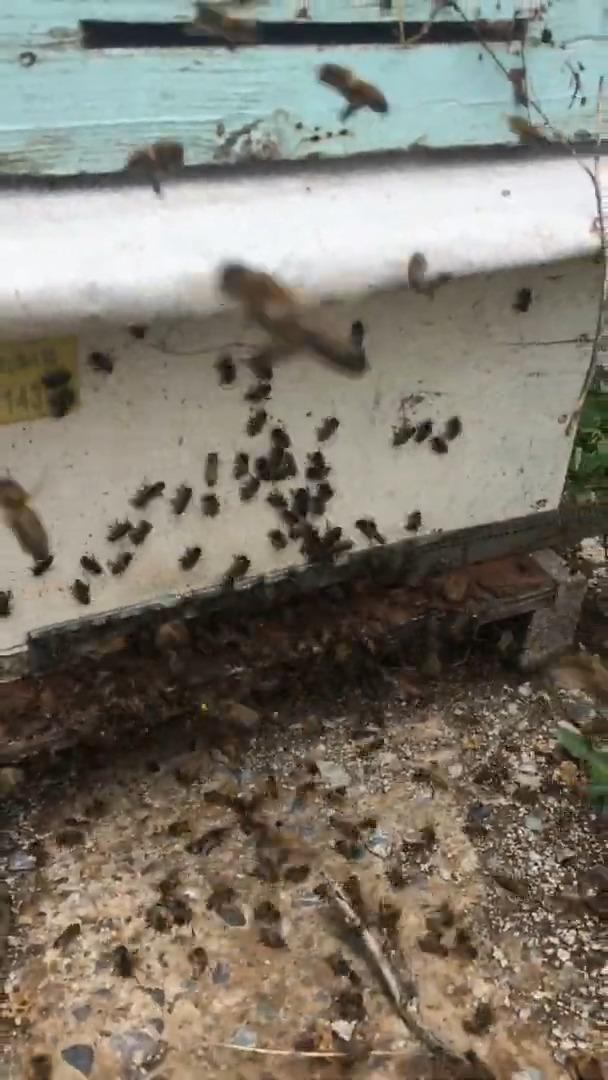worker-bee: (220, 263, 365, 374), (0, 477, 50, 564), (186, 826, 231, 856), (130, 481, 164, 509), (224, 555, 250, 586), (355, 518, 385, 544), (127, 519, 152, 546), (108, 551, 134, 576), (306, 450, 328, 479), (215, 354, 235, 385), (172, 484, 192, 514), (246, 408, 267, 436), (317, 417, 340, 442), (107, 519, 131, 542), (179, 545, 201, 570), (245, 379, 270, 401), (392, 420, 413, 446), (291, 488, 309, 518), (89, 351, 113, 373), (239, 475, 259, 501), (205, 452, 218, 487), (72, 579, 90, 604), (233, 451, 248, 479), (413, 420, 432, 442), (271, 427, 290, 449), (201, 493, 219, 516), (81, 556, 102, 574), (445, 417, 461, 440), (317, 481, 334, 502), (430, 436, 449, 454)
